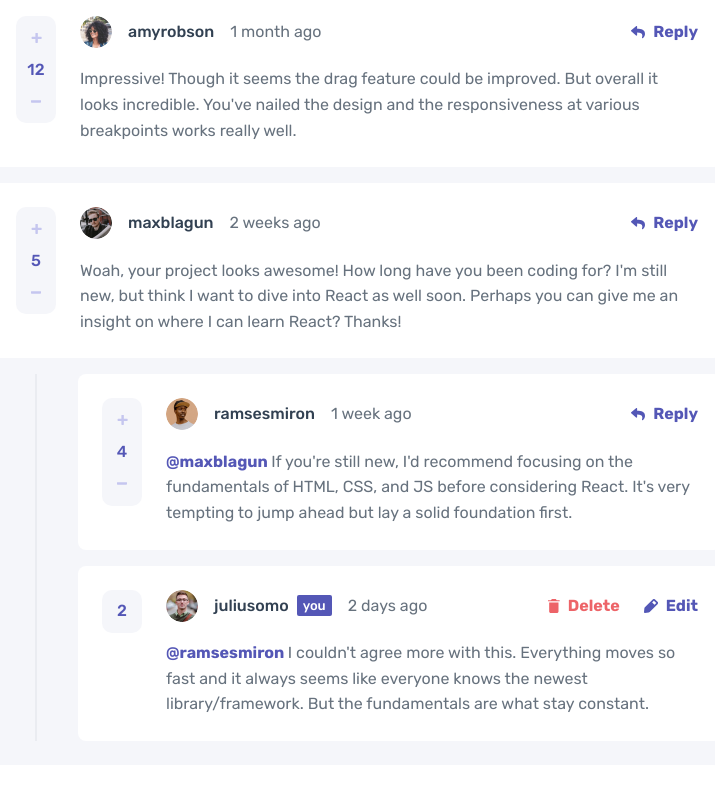
Test: App › reverses an existing vote one step at a time before applying the opposite vote
Click the button named "upvote comment" next to "amyrobson" at (36, 38), box [28,30,44,46]
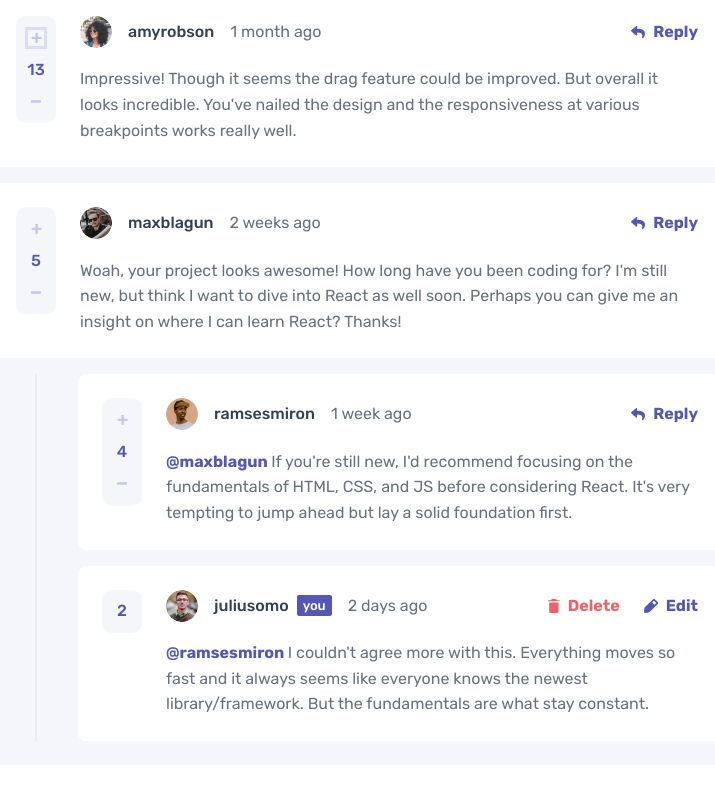
Now the text "13" is shown, box [27,62,45,78]
Click the button named "downvote comment" below "13" at (36, 102), box [28,94,44,110]
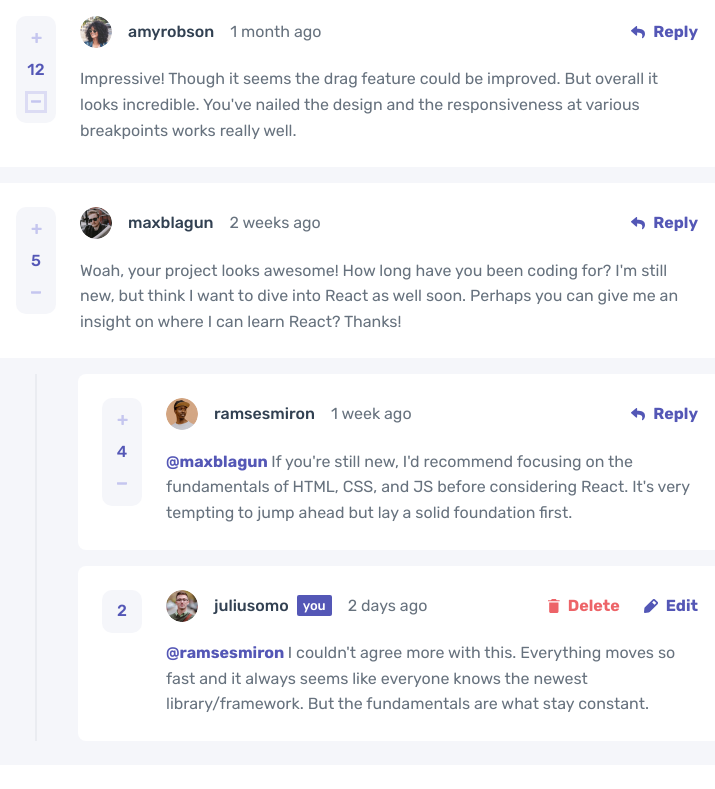
Now the text "12" is shown, box [27,62,45,78]
Click the button named "downvote comment" below "12" at (36, 102), box [28,94,44,110]
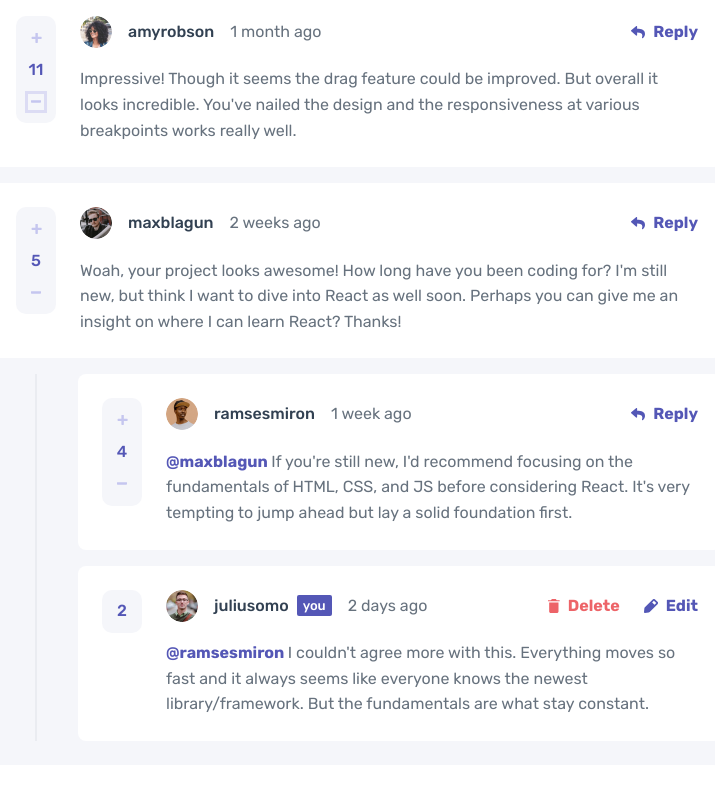
Now the text "11" is shown, box [29,62,43,78]
